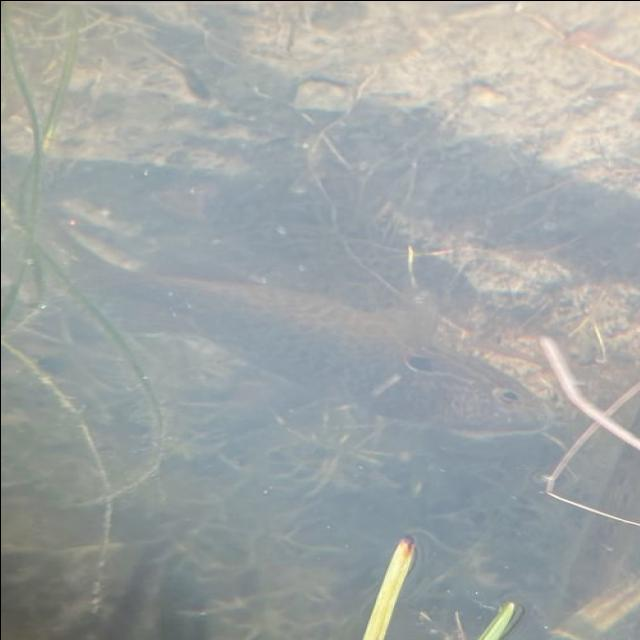Gunes Levregi: (48, 206, 560, 444)
